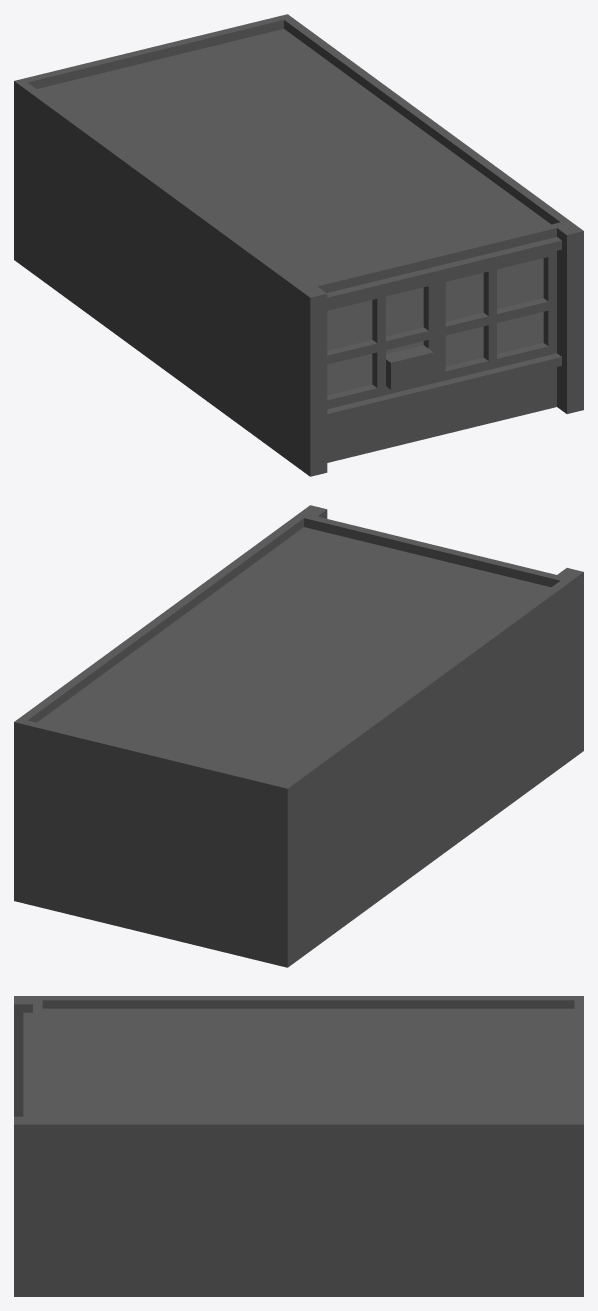
Rendered from bld_story01.obj.
The picture shows the model from 3 angles, top to bottom: view 1: azimuth 30°, elevation 25°; view 2: azimuth 150°, elevation 25°; view 3: azimuth 270°, elevation 25°; orthographic projection. The views are drawn at different scales.
Bounding box in the file's own units: 32 × 20 × 60.
